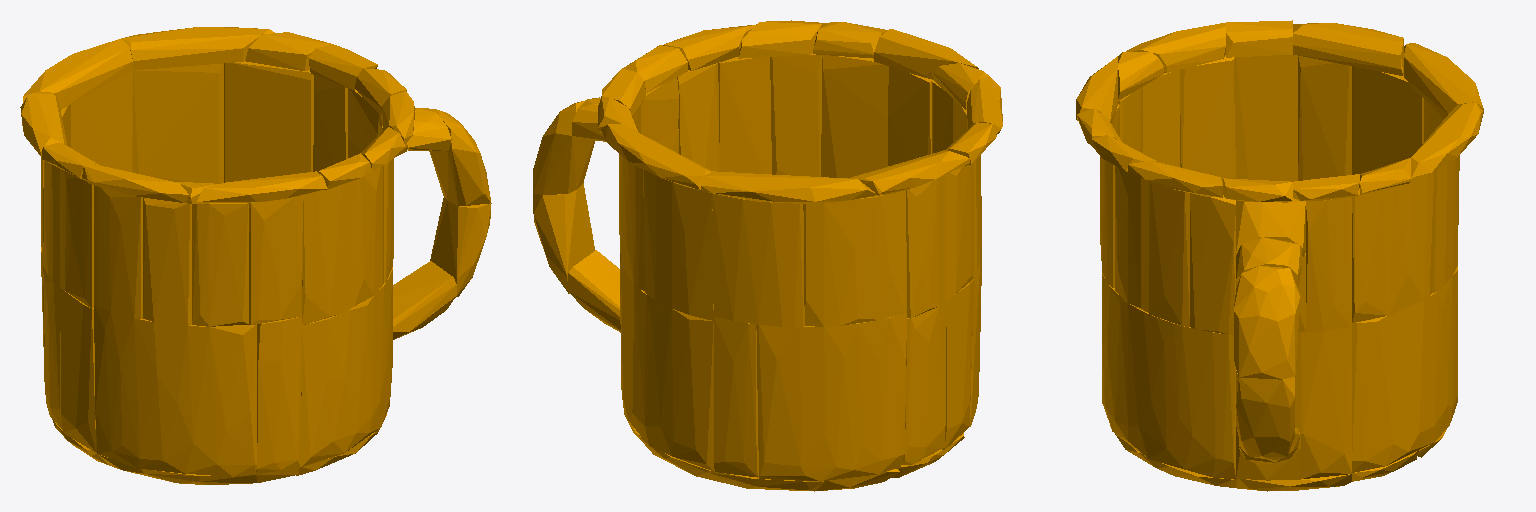
URDF robot description (tomatosoup):
<?xml version="1.0" encoding="UTF-8"?>
<robot name="tomatosoup">
	<link name="base">
		<collision>
			<geometry>
				<mesh filename="..\vhacd\tomatosoup_vhacd.obj"/>
			</geometry>
			<origin xyz="0 0 0"/>
			<contact_coefficients mu="0.10" />
		</collision>
		<visual>
			<geometry>
				<mesh filename="..\vhacd\tomatosoup_vhacd.obj"/>
			</geometry>
			<origin xyz="0 0 0"/>
		</visual>
		<inertial>
			<mass value="0.10"/>
			<inertia ixx="0.00040169030139809604" ixy="8.428495310229145e-07" ixz="-4.903009607767603e-06" iyy="0.00061557934807268455" iyz="-6.510019057102014e-06" izz="0.0009472921464050545" />
			<origin xyz="-0.058858606476823362 0.086572962411367288 0.046898852033388383"/>
		</inertial>
	</link>
</robot>

--- Render facts (derived) ---
Views: 3 orthographic renders of the robot side by side, from view 1: azimuth 30°, elevation 25°; view 2: azimuth 150°, elevation 25°; view 3: azimuth 270°, elevation 25°.
Robot: tomatosoup — 1 links, 0 joints (none); root link base; default pose: all joints at 0.
Visible links, largest first — view 1: base; view 2: base; view 3: base.
Link boxes in pixels (x1,y1,x2,y2): base: (20,27,491,484); base: (533,20,1002,491); base: (1076,20,1483,491).
Size in the robot's own frame: 0.1176 by 0.0938 by 0.0819 metres.
Meshes: 1 distinct files referenced, 1 mesh visuals loaded (1 OBJ).